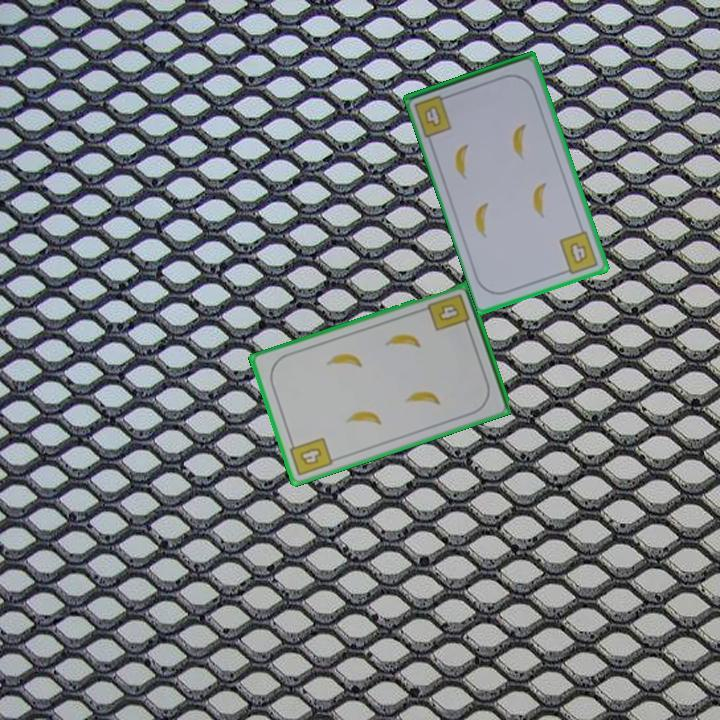4b: (556, 227, 601, 277), (286, 434, 335, 479), (424, 290, 473, 334), (411, 91, 455, 140)
